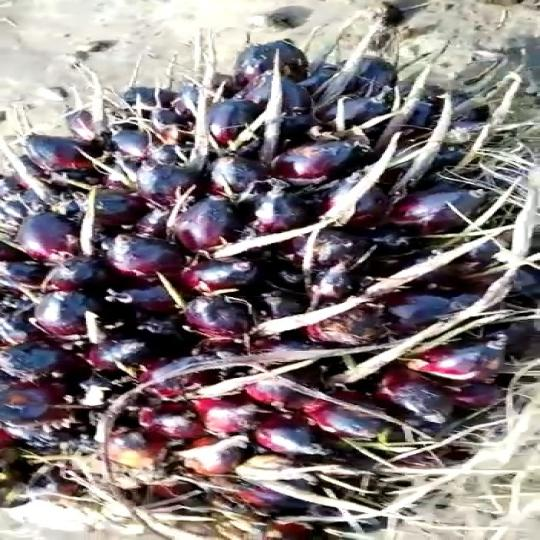mentah: (0, 32, 540, 540)
